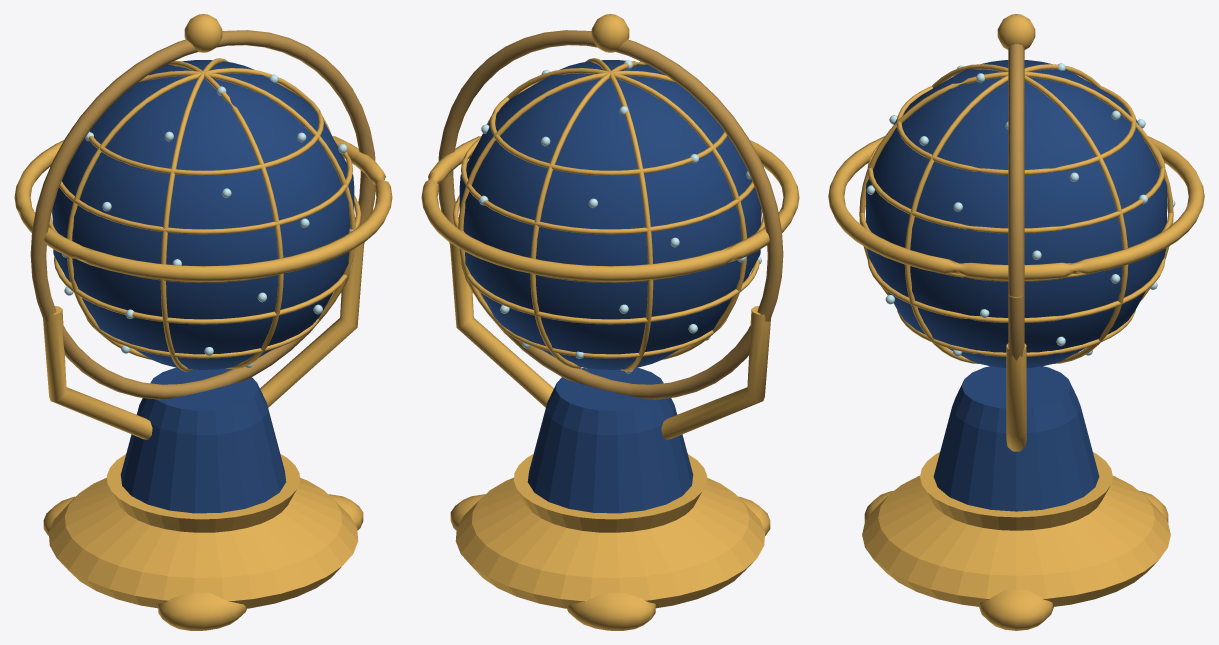
The model's file is astronomical_globe.fbx.
3 views of the same model, side by side, from view 1: azimuth 30°, elevation 25°; view 2: azimuth 150°, elevation 25°; view 3: azimuth 270°, elevation 25° (orthographic).
Parts seen in each view (by area): view 1: astronomical_globe joinery; view 2: astronomical_globe joinery; view 3: astronomical_globe joinery.
Boxes of the visible parts, x1,y1,x2,y2 form: astronomical_globe joinery: (14,14,392,630); astronomical_globe joinery: (421,14,799,630); astronomical_globe joinery: (828,14,1204,630).
Bounding box in the file's own units: 0.123 × 0.189 × 0.117.
